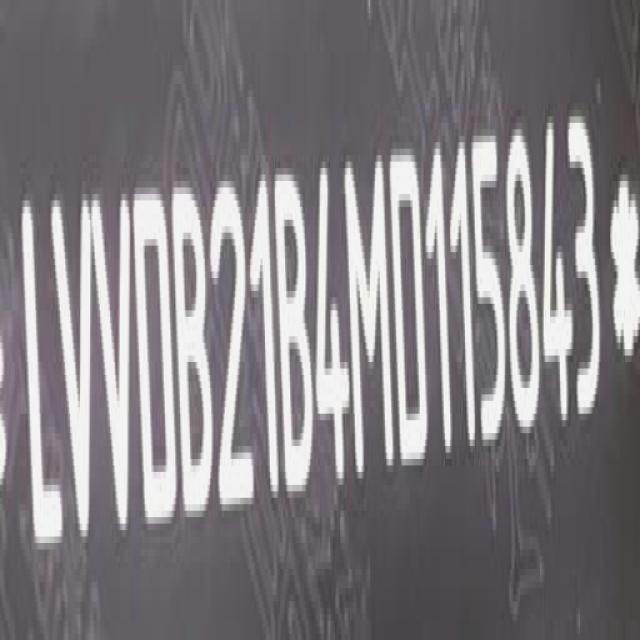1: (254, 178, 279, 513), (431, 140, 455, 468), (453, 135, 477, 462)
2: (213, 180, 254, 520)
3: (573, 108, 604, 427)
4: (316, 160, 350, 494), (543, 114, 574, 436)
5: (474, 129, 507, 450)
8: (508, 126, 541, 444)
B: (179, 183, 216, 530), (277, 168, 315, 503)
D: (134, 185, 175, 538), (395, 144, 431, 475)
L: (18, 195, 58, 562)
M: (349, 151, 393, 483)
V: (51, 192, 96, 554), (96, 185, 139, 547)
